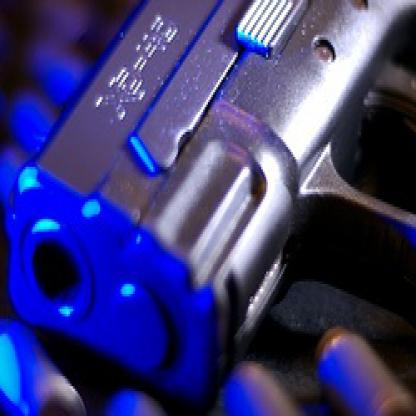gun: (13, 0, 414, 396)
